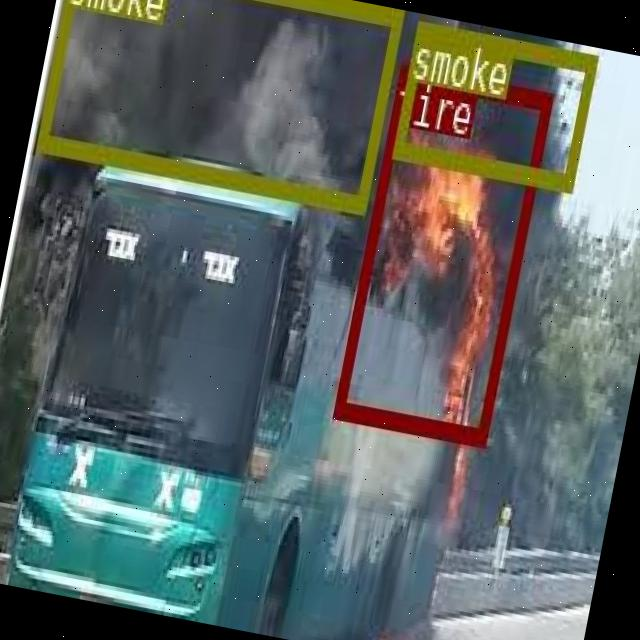fire: (332, 62, 552, 444)
smoke: (36, 0, 402, 208), (393, 18, 597, 188)
